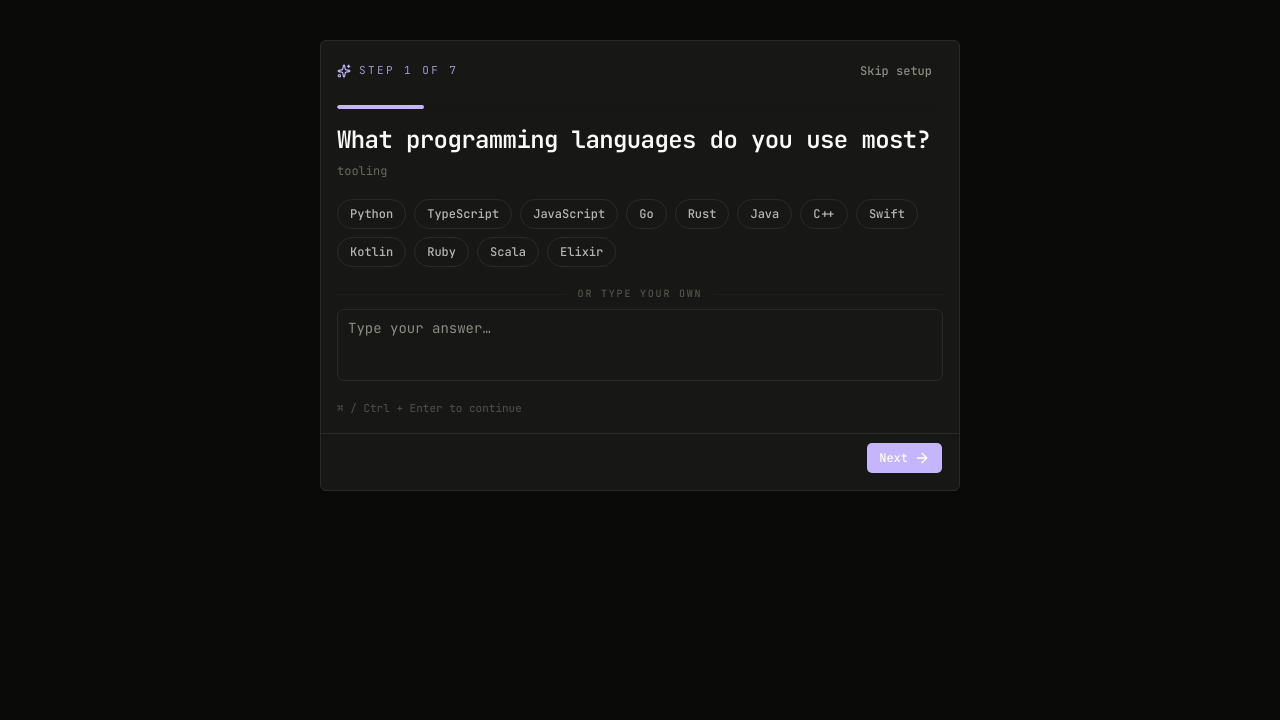
Test: OnboardingQuestionnaire › advances to next step on Next click
Type "Python, TypeScript" into the text box. click: (640, 345)
box: [337,309,943,381]
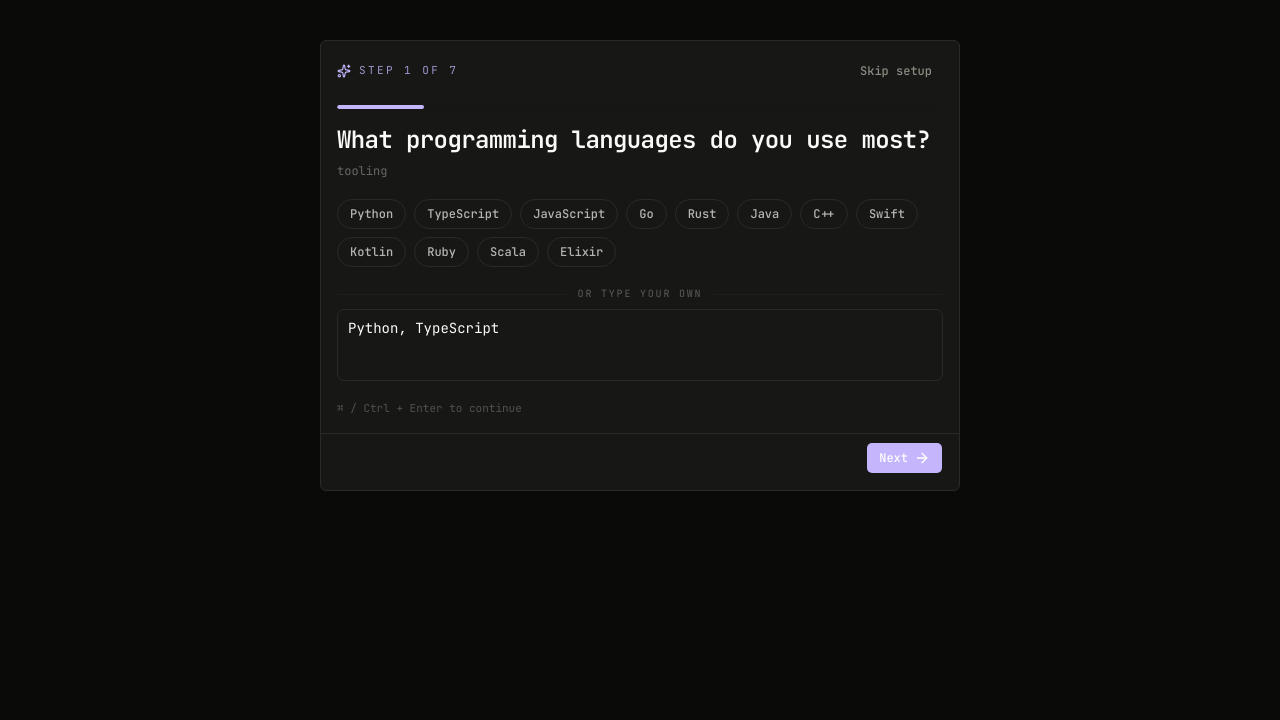
Click the button "Next". click: (905, 458)
box: [866,442,943,474]
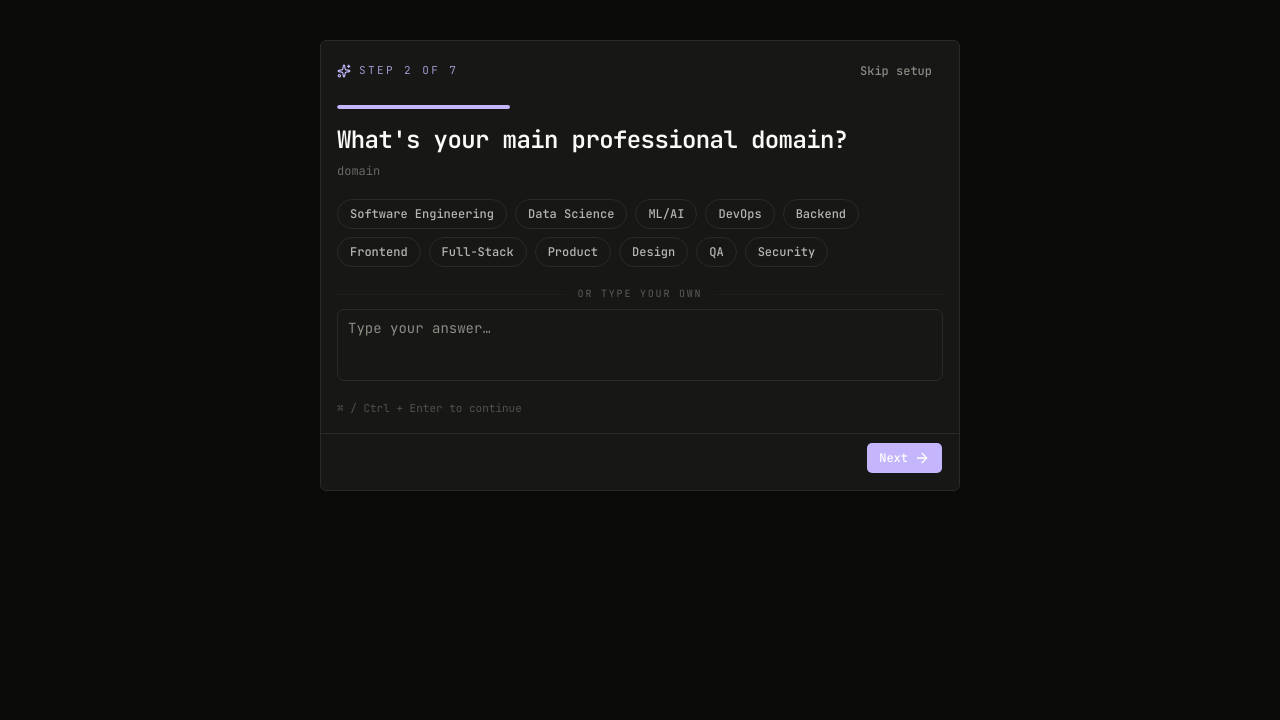
Now the heading "What's your main professional domain?" is shown, box [337,125,848,155]
Now the text "Step 2 of 7" is shown, box [359,63,458,79]
